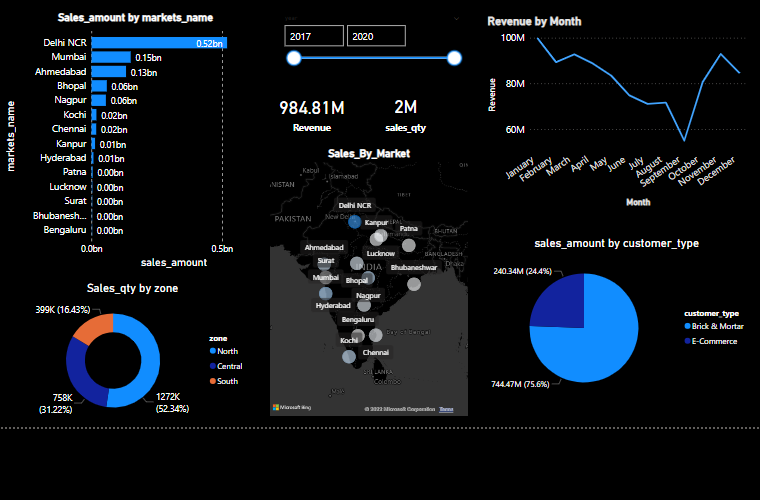

Layout of this report page (visuals, bound fields, positions):
{"tool":"powerbi","page":{"name":"Page 1","canvas":[1280,720],"ordinal":0},"visuals":[{"type":"card","fields":{"Values":["measures (2).Revenue"]},"box":[455.2,132.7,137.7,117.6],"z":0},{"type":"card","fields":{"Values":["Sum(sales transactions.sales_qty)"]},"box":[621.5,137.7,120.9,105.8],"z":1000},{"type":"lineChart","fields":{"Y":["measures (2).Revenue"],"Category":["sales date.cy_date.Variation.Date Hierarchy.Month"]},"box":[809.7,21.8,455.2,337.6],"z":2000},{"type":"clusteredBarChart","title":"Sales_amount by markets_name","fields":{"Category":["sales markets.markets_name"],"Y":["Sum(sales transactions.sales_amount)"]},"box":[3.4,21.8,451.9,438.4],"z":3000},{"type":"pieChart","fields":{"Category":["customer.customer_type"],"Y":["Sum(sales transactions.sales_amount)"]},"box":[809.7,399.8,455.2,287.2],"z":4000},{"type":"donutChart","title":"Sales_qty by zone","fields":{"Y":["Sum(sales transactions.sales_qty)"],"Category":["sales markets.zone"]},"box":[25.2,475.4,398.1,245.2],"z":5000},{"type":"slicer","fields":{"Values":["sales date.year"]},"box":[467,21.8,319.2,107.5],"z":6000},{"type":"map","title":"Sales_By_Market","fields":{"Category":["sales markets.markets_name"]},"box":[450.2,250.3,342.7,456.9],"z":7000}]}

Visuals, with their boxes on the page's 1280x720 design canvas (x1, y1, x2, y2). These are canvas units, not pixel positions in the 760x500 screenshot, which may show the page scaled, cropped or inside an application window:
card - measures (2).Revenue: [x1=455, y1=133, x2=593, y2=250]
card - Sum(sales transactions.sales_qty): [x1=622, y1=138, x2=742, y2=244]
lineChart - measures (2).Revenue x sales date.cy_date.Variation.Date Hierarchy.Month: [x1=810, y1=22, x2=1265, y2=359]
"Sales_amount by markets_name" clusteredBarChart: [x1=3, y1=22, x2=455, y2=460]
pieChart - customer.customer_type x Sum(sales transactions.sales_amount): [x1=810, y1=400, x2=1265, y2=687]
"Sales_qty by zone" donutChart: [x1=25, y1=475, x2=423, y2=721]
slicer - sales date.year: [x1=467, y1=22, x2=786, y2=129]
"Sales_By_Market" map: [x1=450, y1=250, x2=793, y2=707]
